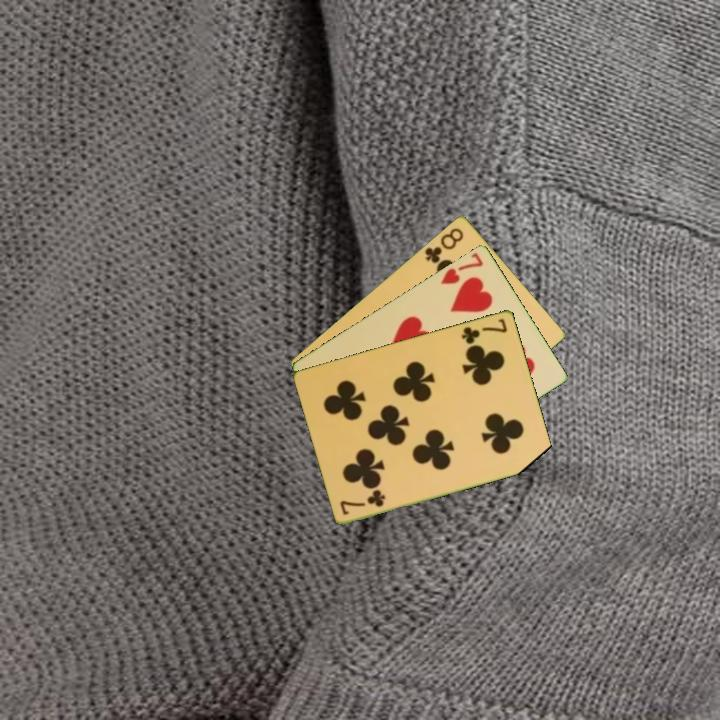7c: (458, 315, 510, 347), (336, 487, 389, 518)
7h: (437, 248, 486, 287)
8c: (421, 224, 466, 268)
